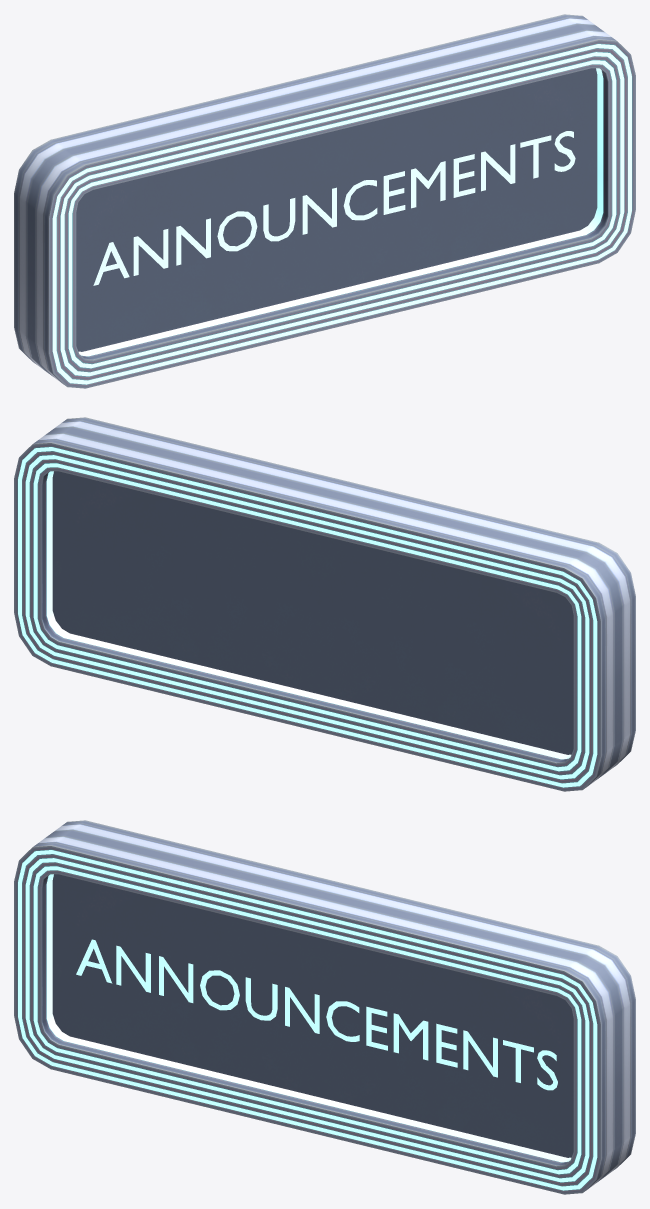
Rendered from obj_announcements.gltf.
3 views of the same model, one above another, from view 1: azimuth 30°, elevation 25°; view 2: azimuth 150°, elevation 25°; view 3: azimuth 330°, elevation 25° (orthographic).
Visible parts, largest first — view 1: obj_announcements; view 2: obj_announcements; view 3: obj_announcements.
Boxes of the visible parts, x1,y1,x2,y2 form: obj_announcements: [14, 14, 635, 388]; obj_announcements: [14, 417, 635, 791]; obj_announcements: [14, 820, 635, 1194].
Size of what is drawn, in the model's own units: 4.27 by 1.55 by 0.439.
Materials: 2 (1 with a texture image).
